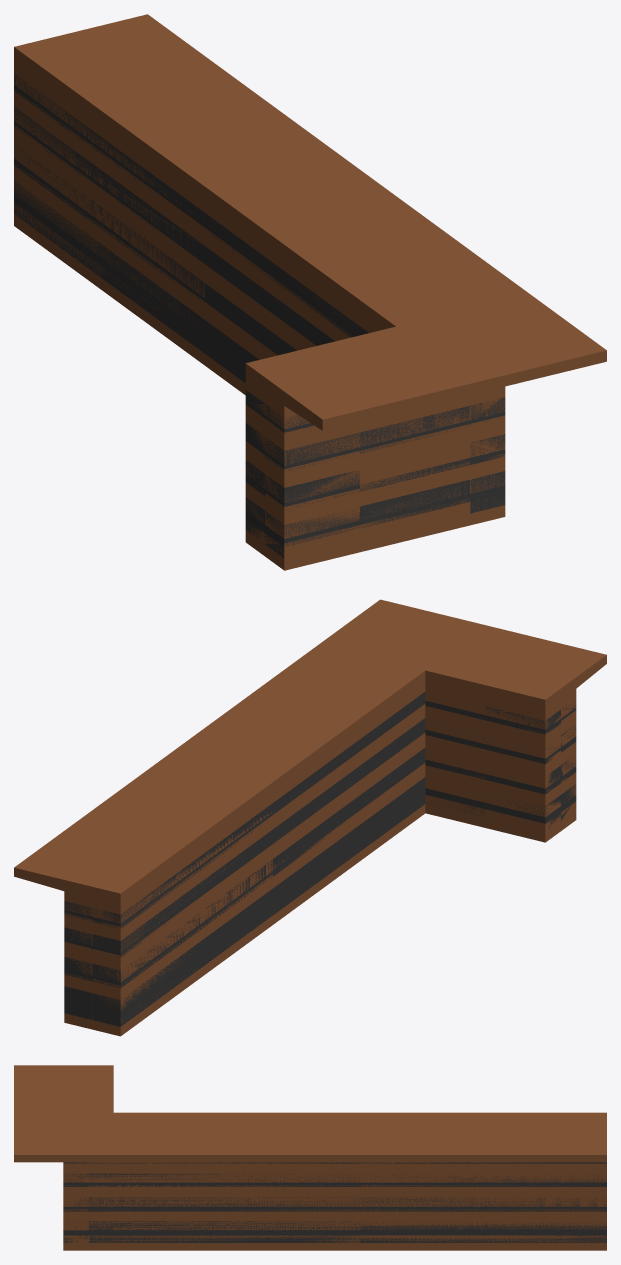
Rendered from shattered_bar.fbx.
3 views of the same model, one above another, from view 1: azimuth 30°, elevation 25°; view 2: azimuth 150°, elevation 25°; view 3: azimuth 270°, elevation 25° (orthographic). The views are drawn at different scales.
Parts seen in each view (by area): view 1: Cube, Cube_cell.022, Cube_cell.044, Cube_cell.018, Cube_cell.034, Cube_cell.099, Cube_cell.003, Cube_cell.021, Cube_cell.045, Cube_cell.015, Cube_cell.058, Cube_cell.095 (+35 smaller); view 2: Cube, Cube_cell.044, Cube_cell.076, Cube_cell.045, Cube_cell.018, Cube_cell.021, Cube_cell.099, Cube_cell.034, Cube_cell.009, Cube_cell.096, Cube_cell.015, Cube_cell.058 (+19 smaller); view 3: Cube, Cube_cell.045, Cube_cell.076, Cube_cell.091, Cube_cell.048, Cube_cell.093, Cube_cell.035, Cube_cell.025, Cube_cell.037, Cube_cell.002, Cube_cell.001, Cube_cell.089 (+16 smaller).
Boxes of the visible parts, left/top/right/bottom form: Cube: left=14, top=14, right=606, bottom=570; Cube_cell.022: left=241, top=163, right=517, bottom=331; Cube_cell.044: left=205, top=178, right=447, bottom=358; Cube_cell.018: left=14, top=125, right=204, bottom=282; Cube_cell.034: left=14, top=56, right=204, bottom=212; Cube_cell.099: left=14, top=180, right=204, bottom=337; Cube_cell.003: left=14, top=89, right=204, bottom=245; Cube_cell.021: left=14, top=106, right=204, bottom=263; Cube_cell.045: left=309, top=154, right=545, bottom=306; Cube_cell.015: left=14, top=162, right=204, bottom=319; Cube_cell.058: left=205, top=195, right=387, bottom=332; Cube_cell.095: left=14, top=199, right=204, bottom=353; Cube: left=14, top=599, right=606, bottom=1035; Cube_cell.044: left=264, top=652, right=499, bottom=787; Cube_cell.076: left=14, top=757, right=190, bottom=877; Cube_cell.045: left=167, top=634, right=356, bottom=761; Cube_cell.018: left=92, top=844, right=272, bottom=969; Cube_cell.021: left=92, top=829, right=272, bottom=955; Cube_cell.099: left=92, top=889, right=272, bottom=1014; Cube_cell.034: left=92, top=788, right=272, bottom=913; Cube_cell.009: left=273, top=733, right=484, bottom=858; Cube_cell.096: left=273, top=748, right=425, bottom=873; Cube_cell.015: left=92, top=874, right=272, bottom=999; Cube_cell.058: left=273, top=677, right=425, bottom=802; Cube: left=14, top=1065, right=606, bottom=1250; Cube_cell.045: left=88, top=1145, right=360, bottom=1162; Cube_cell.076: left=360, top=1145, right=606, bottom=1158; Cube_cell.091: left=88, top=1221, right=360, bottom=1232; Cube_cell.048: left=88, top=1233, right=360, bottom=1242; Cube_cell.093: left=88, top=1197, right=359, bottom=1209; Cube_cell.035: left=88, top=1162, right=360, bottom=1172; Cube_cell.025: left=88, top=1243, right=360, bottom=1250; Cube_cell.037: left=360, top=1221, right=606, bottom=1232; Cube_cell.002: left=88, top=1185, right=359, bottom=1196; Cube_cell.001: left=360, top=1197, right=606, bottom=1209; Cube_cell.089: left=360, top=1233, right=606, bottom=1242.
Size of the model in its own units: 569 by 122 by 203.
